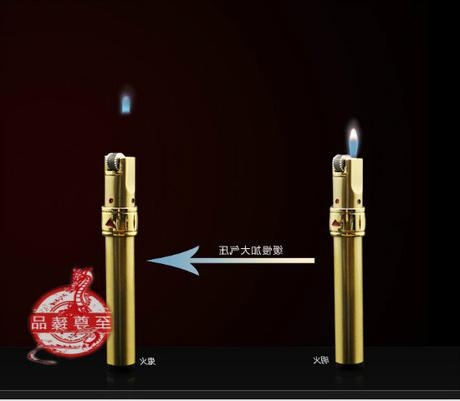fire: (343, 120, 369, 161), (117, 89, 137, 121)
